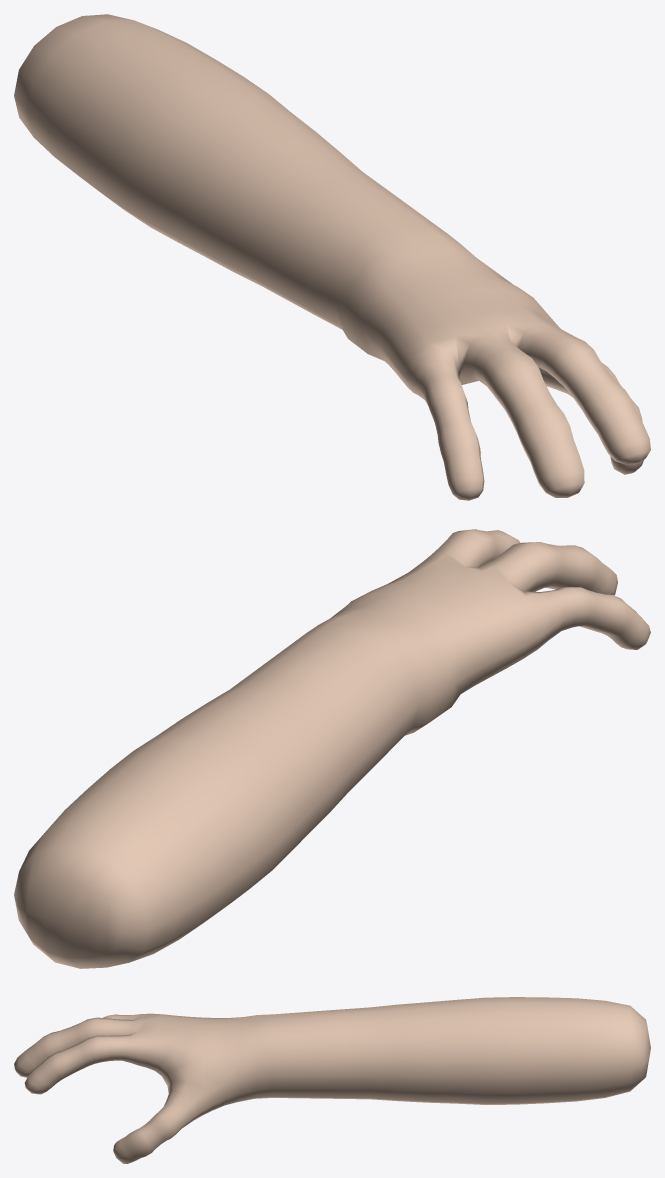
Rendered from RightHand.fbx.
The picture shows the model from 3 angles, top to bottom: view 1: azimuth 30°, elevation 25°; view 2: azimuth 150°, elevation 25°; view 3: azimuth 270°, elevation 25°; orthographic projection. The views are drawn at different scales.
Visible parts, largest first — view 1: alienhand; view 2: alienhand; view 3: alienhand.
Part boxes in pixels (bbox=[...]): alienhand: bbox=[14, 14, 650, 500]; alienhand: bbox=[14, 529, 650, 968]; alienhand: bbox=[14, 997, 650, 1163].
Bounding box in the file's own units: 17.28 × 13.16 × 61.72.
